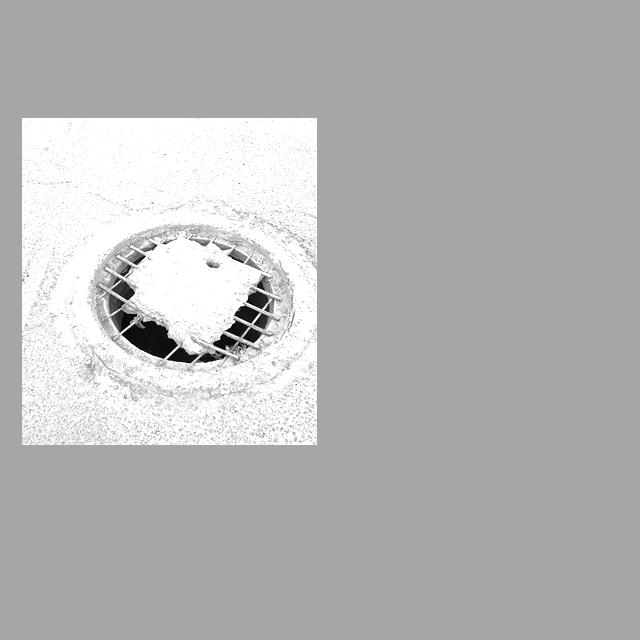broke: (77, 206, 305, 387)
